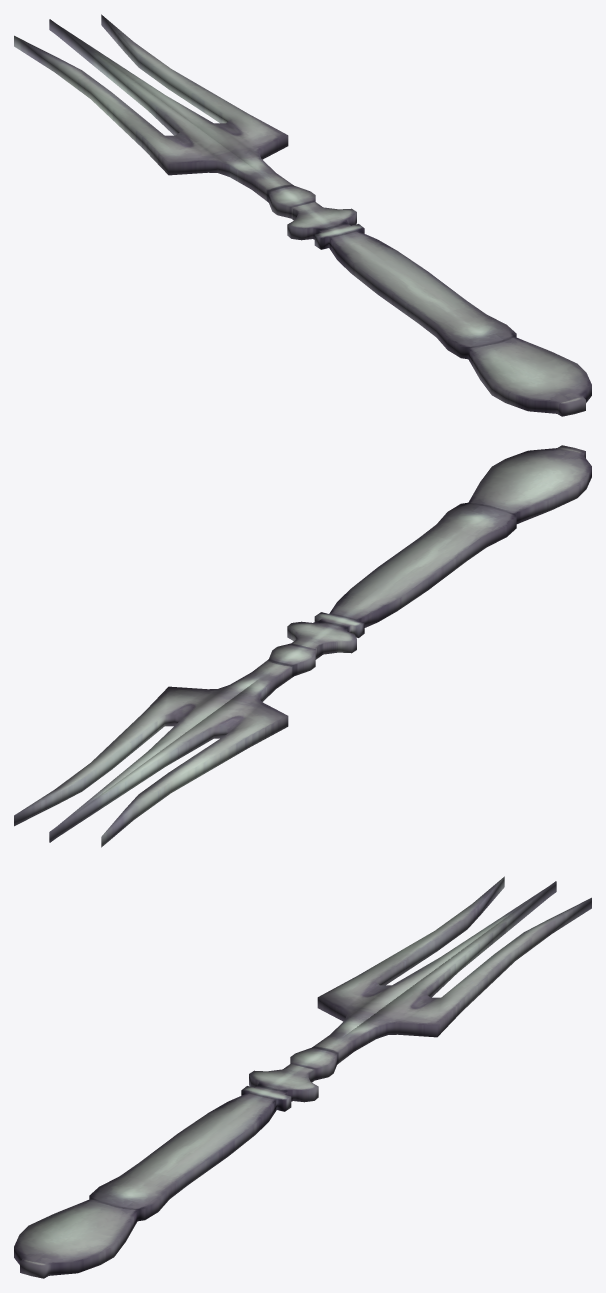
The model's file is Lv1_Tenedor1.fbx.
The picture shows the model from 3 angles, top to bottom: view 1: azimuth 30°, elevation 25°; view 2: azimuth 150°, elevation 25°; view 3: azimuth 330°, elevation 25°; orthographic projection.
Parts seen in each view (by area): view 1: Lv1_Tenedor1; view 2: Lv1_Tenedor1; view 3: Lv1_Tenedor1.
Boxes of the visible parts, x1,y1,x2,y2 form: Lv1_Tenedor1: (14,14,591,416); Lv1_Tenedor1: (14,445,591,847); Lv1_Tenedor1: (14,876,591,1278).
Bounding box in the file's own units: 1.81 × 0.1574 × 13.74.
Materials: 1 (1 with a texture image).
